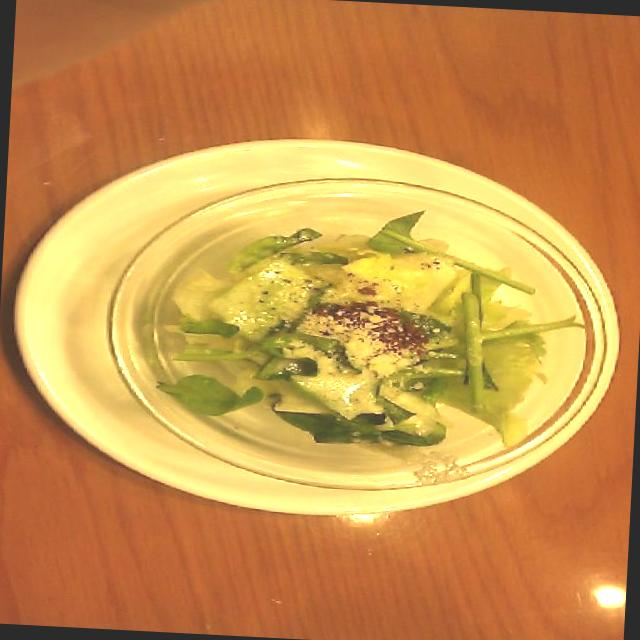Green Salad: (175, 205, 551, 464)
